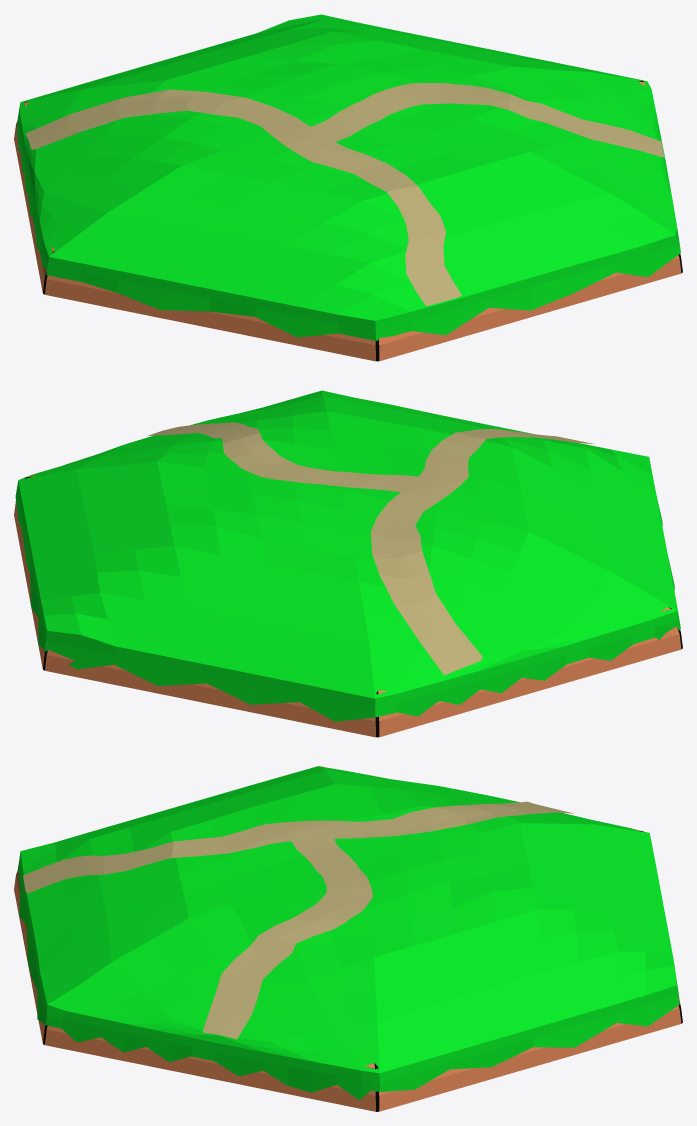
File: PlatformWithPath02.fbx
The picture shows the model from 3 angles, top to bottom: view 1: azimuth 30°, elevation 25°; view 2: azimuth 150°, elevation 25°; view 3: azimuth 270°, elevation 25°; orthographic projection.
Visible parts, largest first — view 1: Circle.018; view 2: Circle.018; view 3: Circle.018.
Boxes of the visible parts, x1,y1,x2,y2 form: Circle.018: (14, 14, 682, 361); Circle.018: (14, 390, 682, 737); Circle.018: (14, 766, 682, 1111).
Bounding box in the file's own units: 3323 × 481 × 3015.
